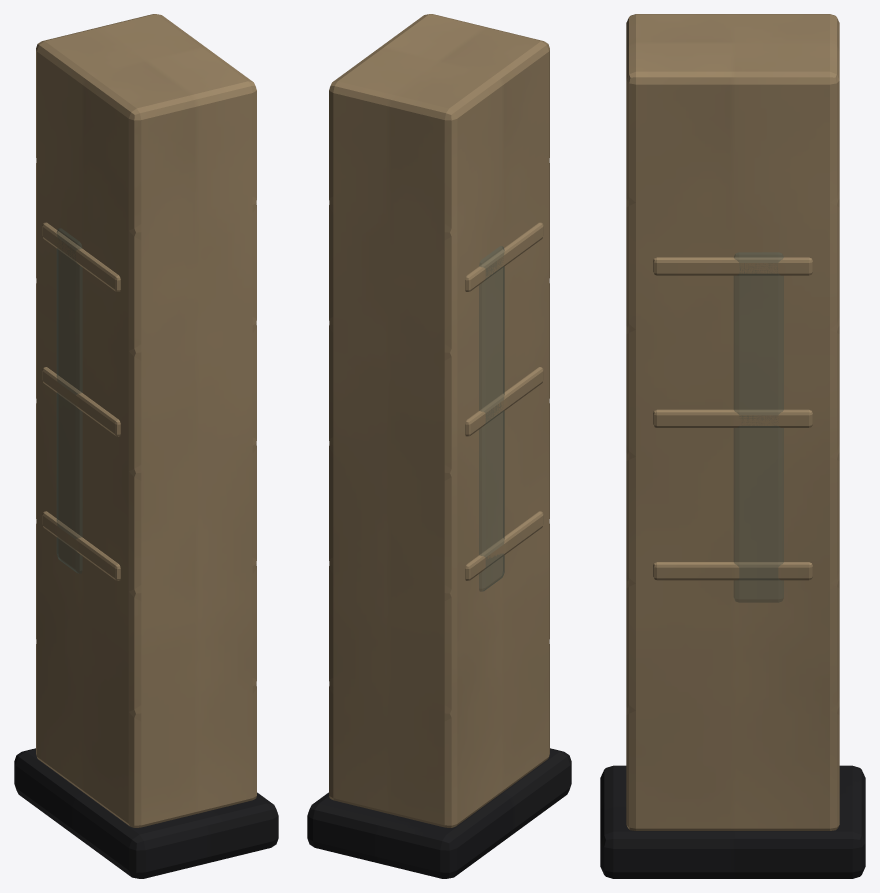
File: mag_polymer_light.glb
The picture shows the model from 3 angles, left to right: view 1: azimuth 30°, elevation 25°; view 2: azimuth 150°, elevation 25°; view 3: azimuth 270°, elevation 25°; orthographic projection. The views are drawn at different scales.
Visible parts, largest first — view 1: mag, mag_base, window, mag_rib2, mag_rib0, mag_rib1; view 2: mag, mag_base, window, mag_rib2, mag_rib0, mag_rib1; view 3: mag, window, mag_base, mag_rib0, mag_rib1, mag_rib2.
Boxes of the visible parts, left/top/right/bottom form: mag: left=36, top=14, right=256, bottom=827; mag_base: left=14, top=748, right=278, bottom=878; window: left=56, top=228, right=82, bottom=573; mag_rib2: left=42, top=511, right=120, bottom=580; mag_rib0: left=42, top=222, right=120, bottom=291; mag_rib1: left=42, top=367, right=120, bottom=436; mag: left=329, top=14, right=549, bottom=827; mag_base: left=307, top=748, right=571, bottom=878; window: left=479, top=246, right=504, bottom=591; mag_rib2: left=465, top=511, right=543, bottom=580; mag_rib0: left=465, top=222, right=543, bottom=291; mag_rib1: left=465, top=367, right=543, bottom=436; mag: left=626, top=14, right=839, bottom=830; window: left=734, top=252, right=783, bottom=602; mag_base: left=600, top=765, right=865, bottom=878; mag_rib0: left=653, top=257, right=812, bottom=275; mag_rib1: left=653, top=409, right=812, bottom=427; mag_rib2: left=653, top=562, right=812, bottom=580.
Bounding box in the file's own units: 0.028 × 0.137 × 0.041.
3 materials, 2 textured.
